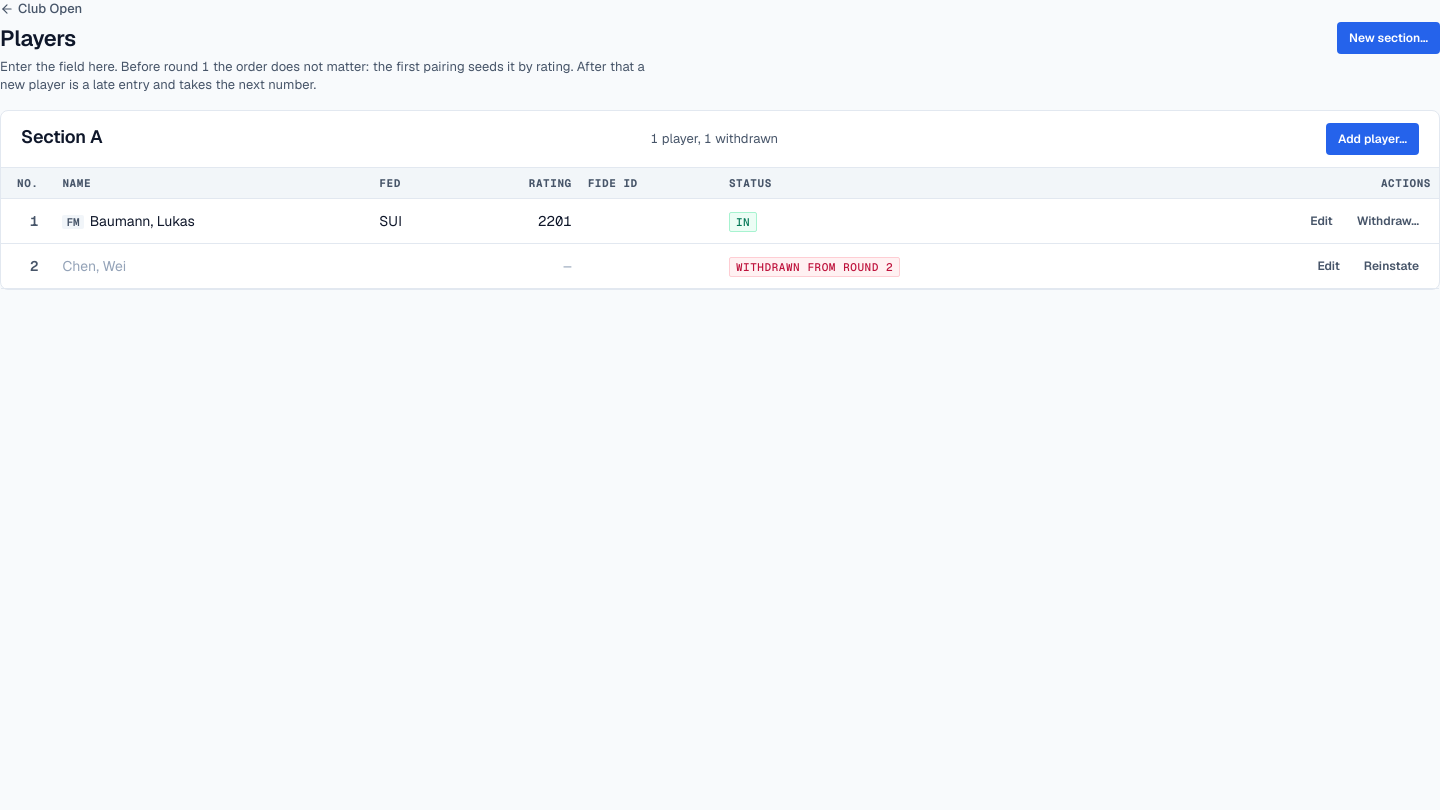
Test: Players › adds a player through the dialog
Click the button "Add player…". click: (1372, 139)
box: [1326,123,1419,155]
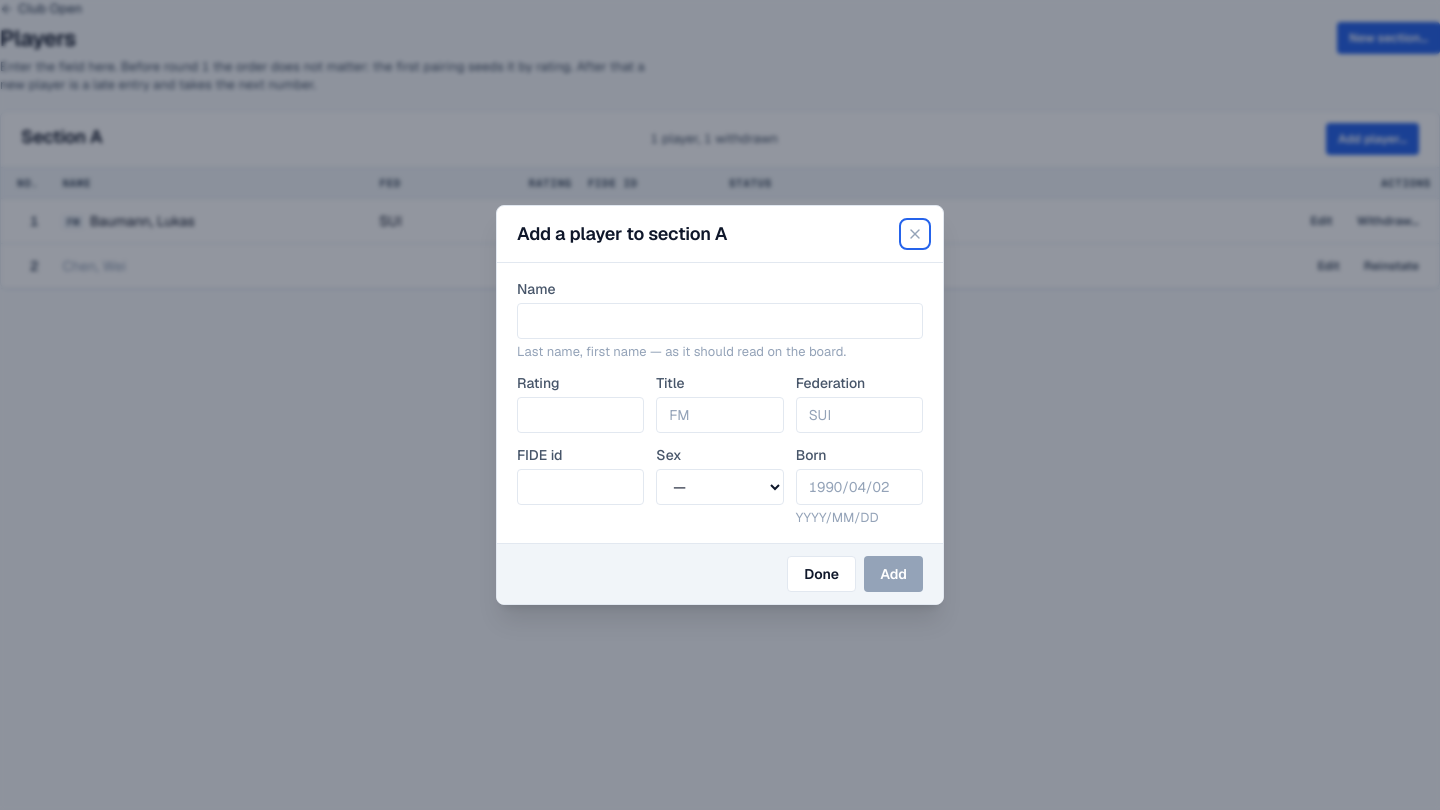
Type "Dubois, Elise" into the field labelled "Name Last name, first name — as it should read on the board.". click: (720, 321)
box: [517,303,923,339]
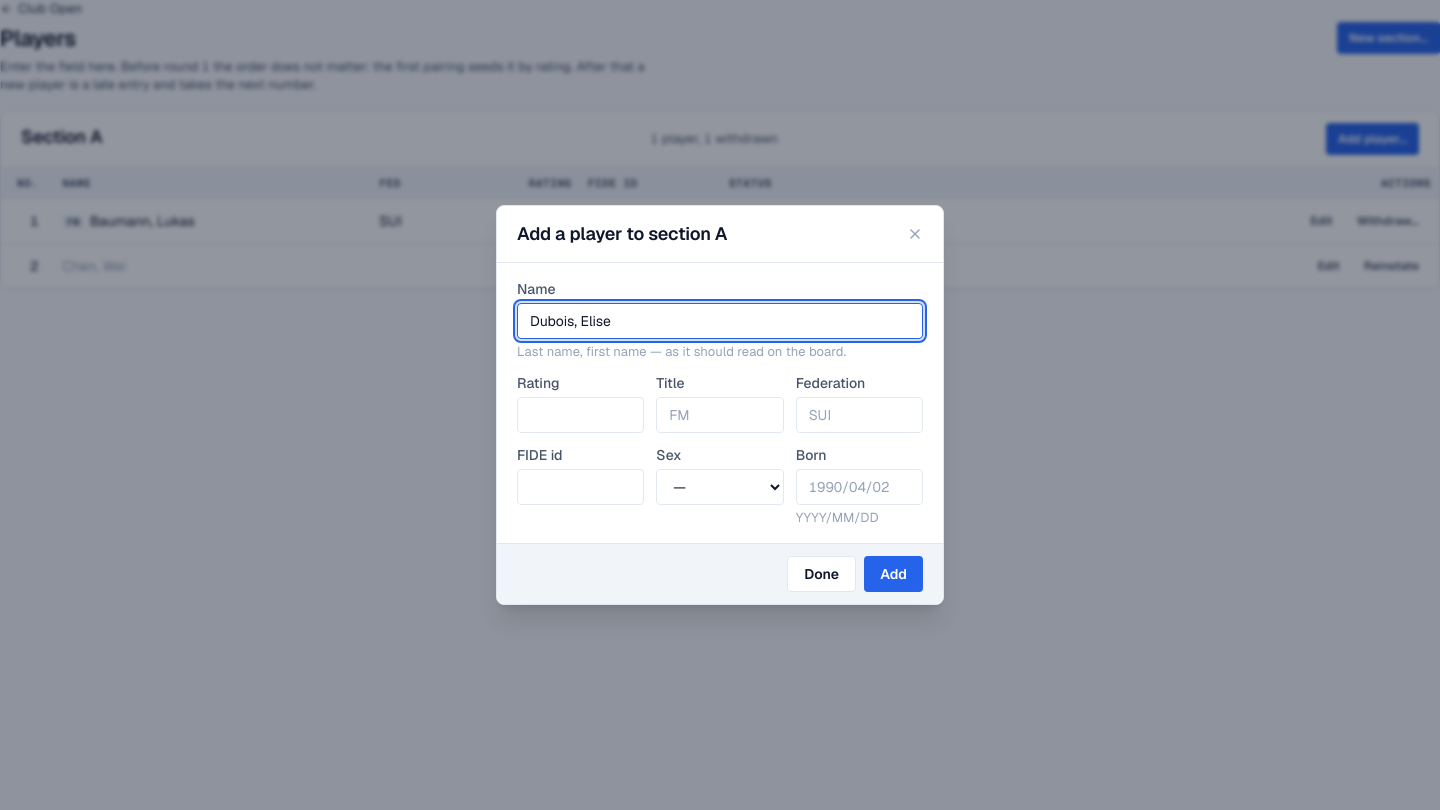
Type "2098" into the number field labelled "Rating". click: (581, 415)
box: [517,397,644,433]
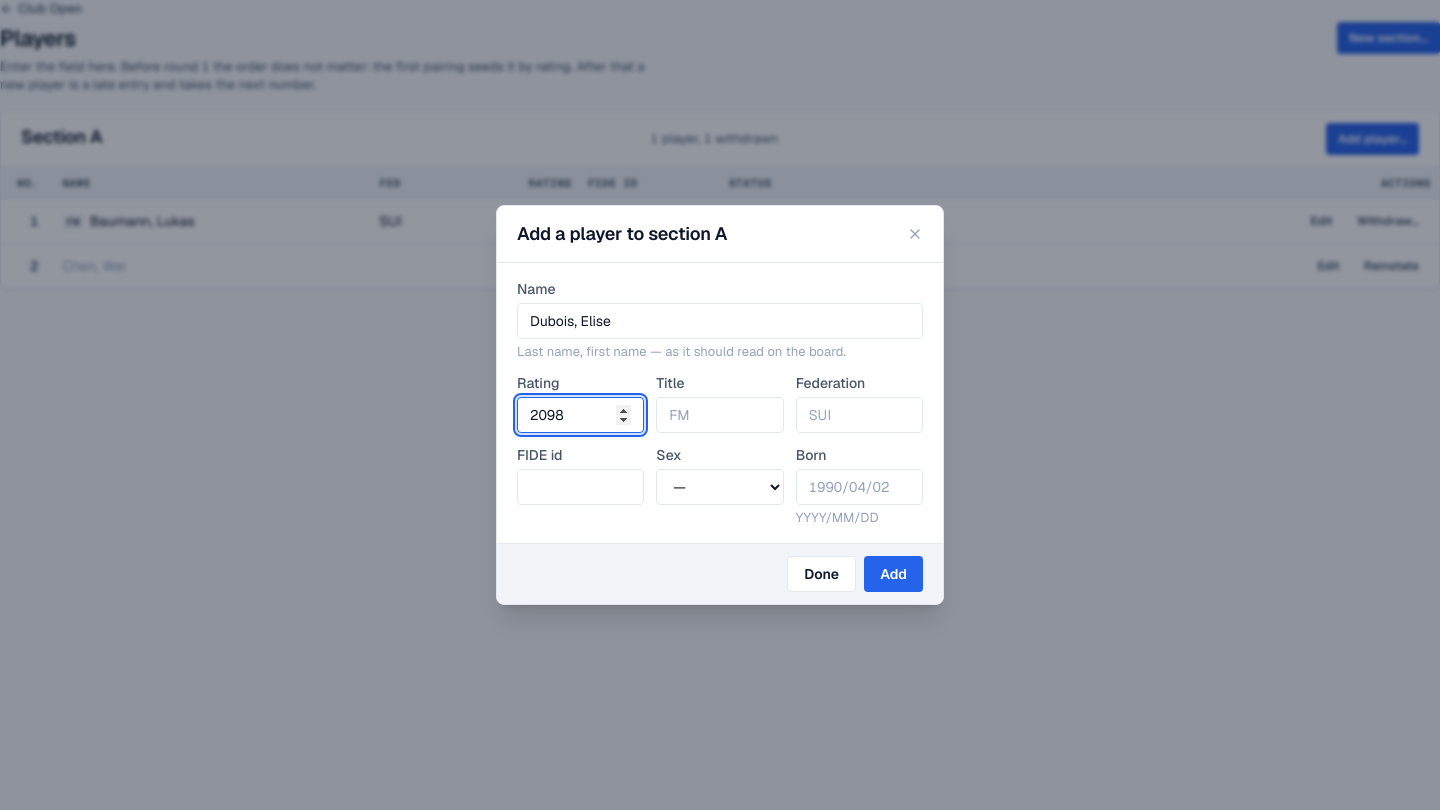
Click the button "Add". click: (894, 574)
box: [864,556,923,592]
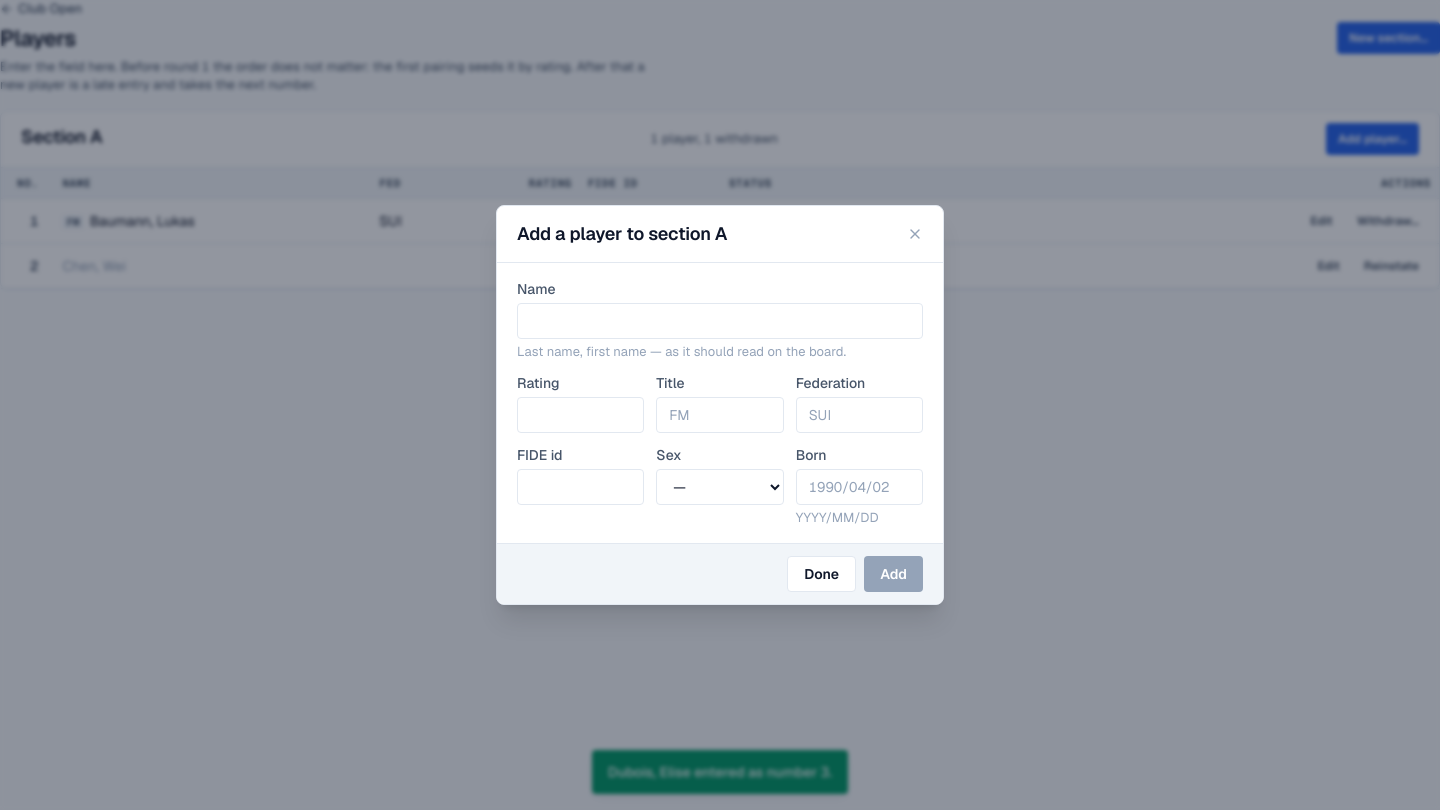
Check: the text "Dubois, Elise entered as number 3." is shown, box [592,750,848,794]
